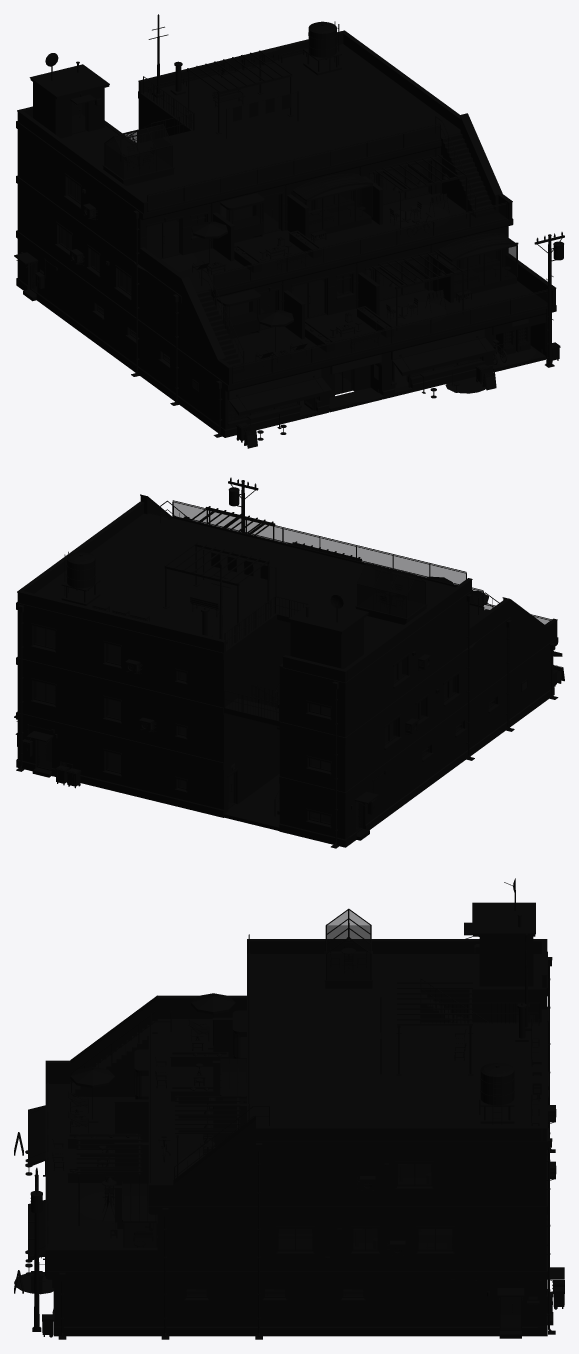
Rendered from wedge-D0YhCiDB.glb.
3 renders of one model, top to bottom at view 1: azimuth 30°, elevation 25°; view 2: azimuth 150°, elevation 25°; view 3: azimuth 270°, elevation 25°, orthographic. The views are drawn at different scales.
Parts seen in each view (by area): view 1: body, glass, glow, pool; view 2: body, glass, glow; view 3: body, glass, glow, pool.
Part boxes in pixels (<box>): body: <box>14,16,564,448</box>; glass: <box>31,102,547,420</box>; glow: <box>32,14,547,446</box>; pool: <box>134,205,536,402</box>; body: <box>14,477,564,848</box>; glass: <box>35,502,549,831</box>; glow: <box>36,501,560,828</box>; body: <box>14,878,564,1339</box>; glass: <box>123,910,534,1328</box>; glow: <box>14,933,537,1327</box>; pool: <box>14,1152,206,1317</box>.
Bounding box in the file's own units: 21.6 × 14.33 × 24.64.
4 materials, 4 textured.
